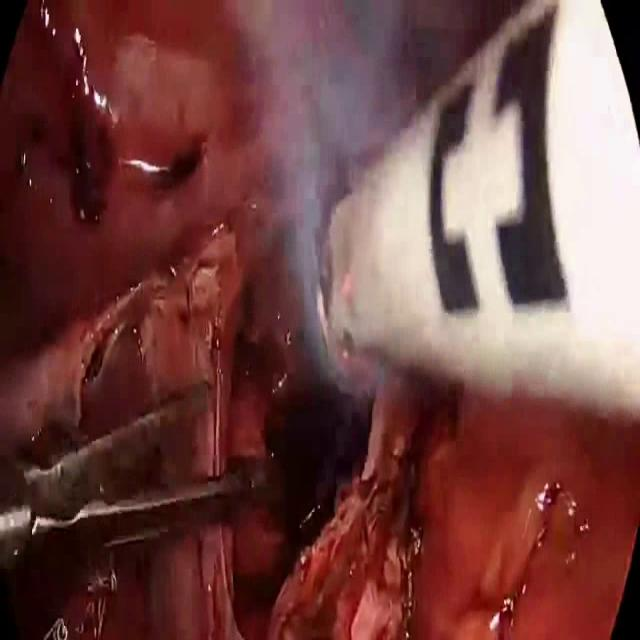surgical-area: (0, 0, 640, 639)
surgical-tool: (314, 0, 640, 426), (0, 380, 254, 572)
